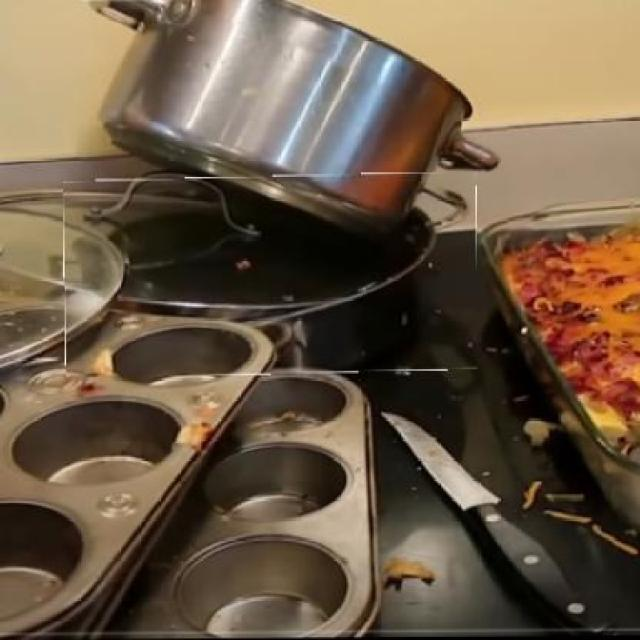pot: (82, 0, 509, 229), (63, 174, 477, 375)
